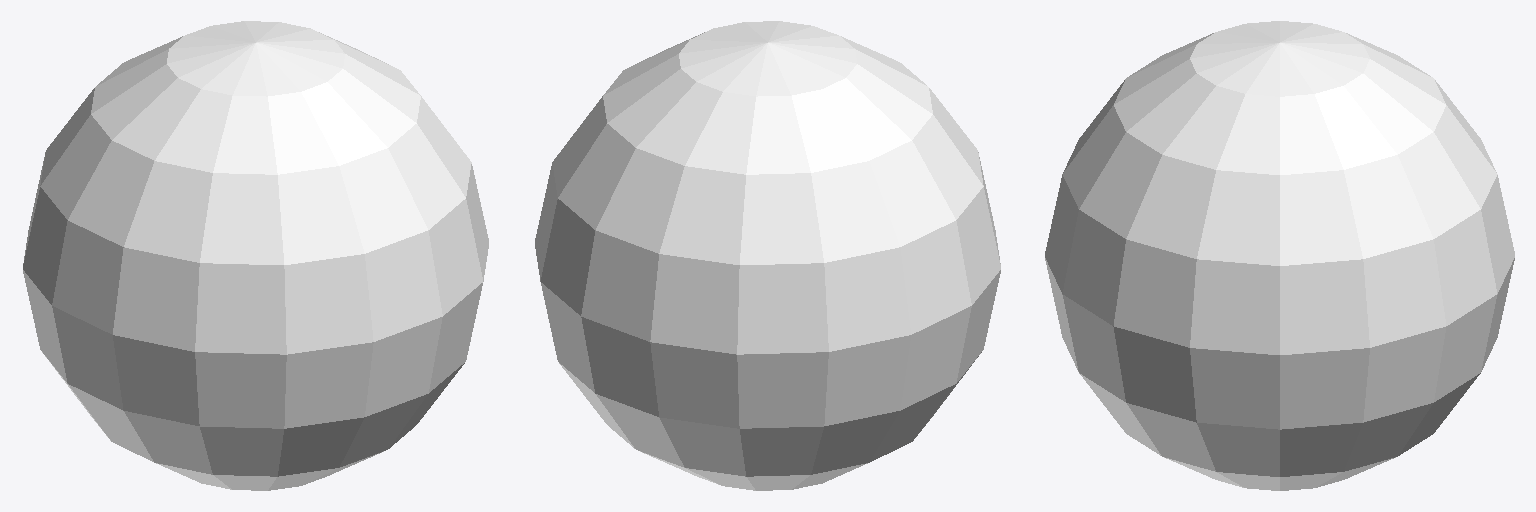
File: BasicSphere.obj
3 views of the same model, side by side, from view 1: azimuth 30°, elevation 25°; view 2: azimuth 150°, elevation 25°; view 3: azimuth 270°, elevation 25° (orthographic).
Parts seen in each view (by area): view 1: BasicSphere; view 2: BasicSphere; view 3: BasicSphere.
Part boxes in pixels (x1,y1,x2,y2): BasicSphere: (23,21,488,490); BasicSphere: (535,21,1000,490); BasicSphere: (1045,21,1514,490).
Bounding box in the file's own units: 2 × 2 × 2.